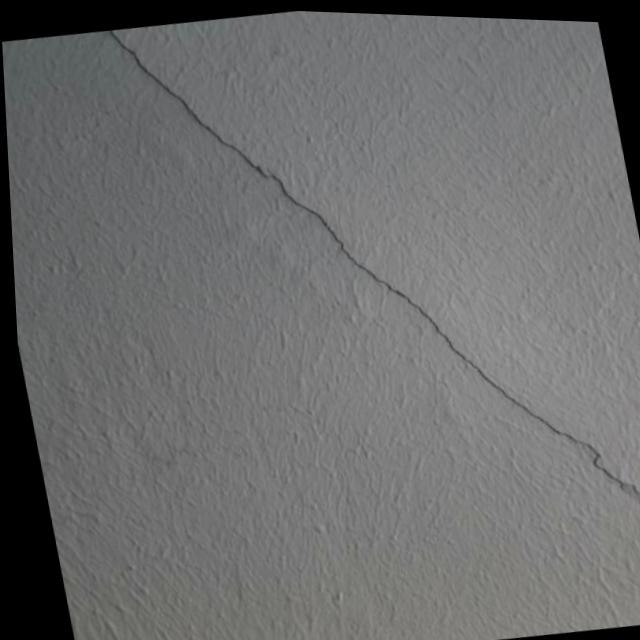Crack: (98, 3, 640, 622)
